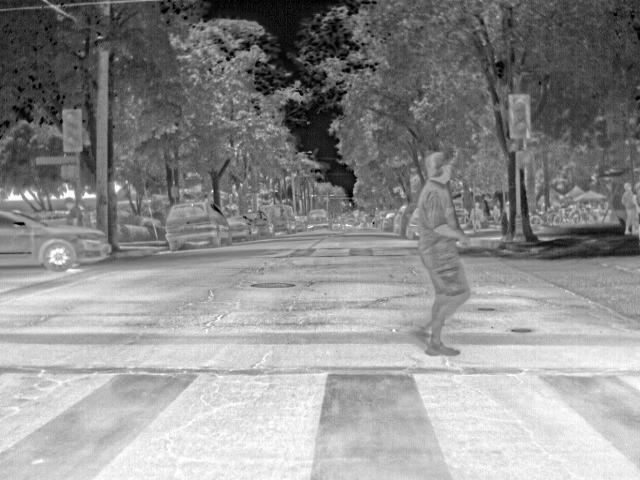car: (2, 207, 116, 273), (162, 200, 237, 248), (261, 202, 298, 234), (240, 208, 275, 237), (224, 215, 253, 243), (394, 206, 415, 236), (305, 207, 332, 229), (405, 208, 421, 239), (381, 210, 396, 231)
person: (412, 149, 477, 356), (623, 180, 640, 237), (64, 198, 81, 227)
